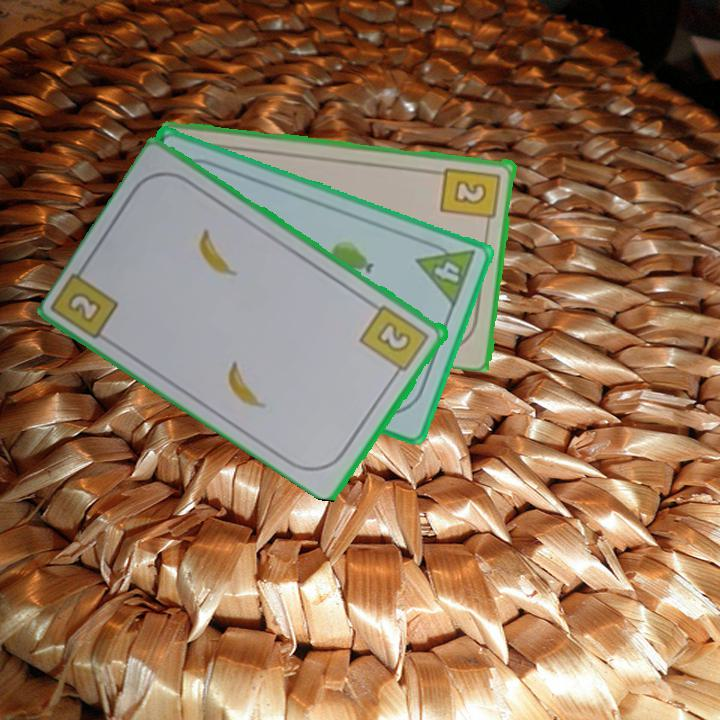2b: (357, 301, 433, 381), (438, 163, 504, 230), (64, 288, 106, 326)
4p: (413, 235, 478, 310)
